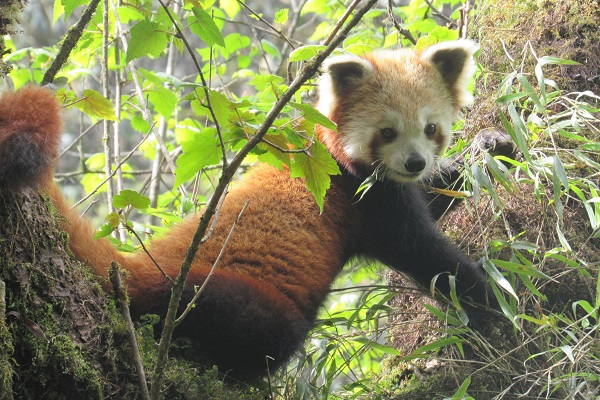red_panda: (70, 48, 512, 371)
